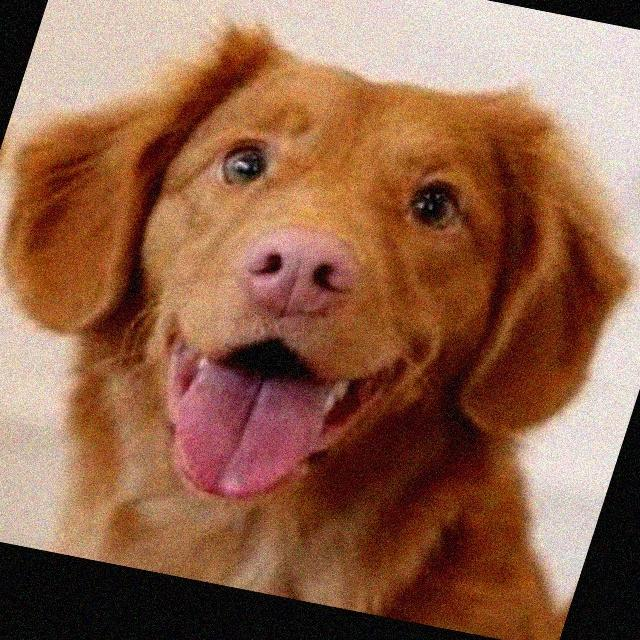dog: (0, 0, 640, 640), (545, 52, 640, 640)
